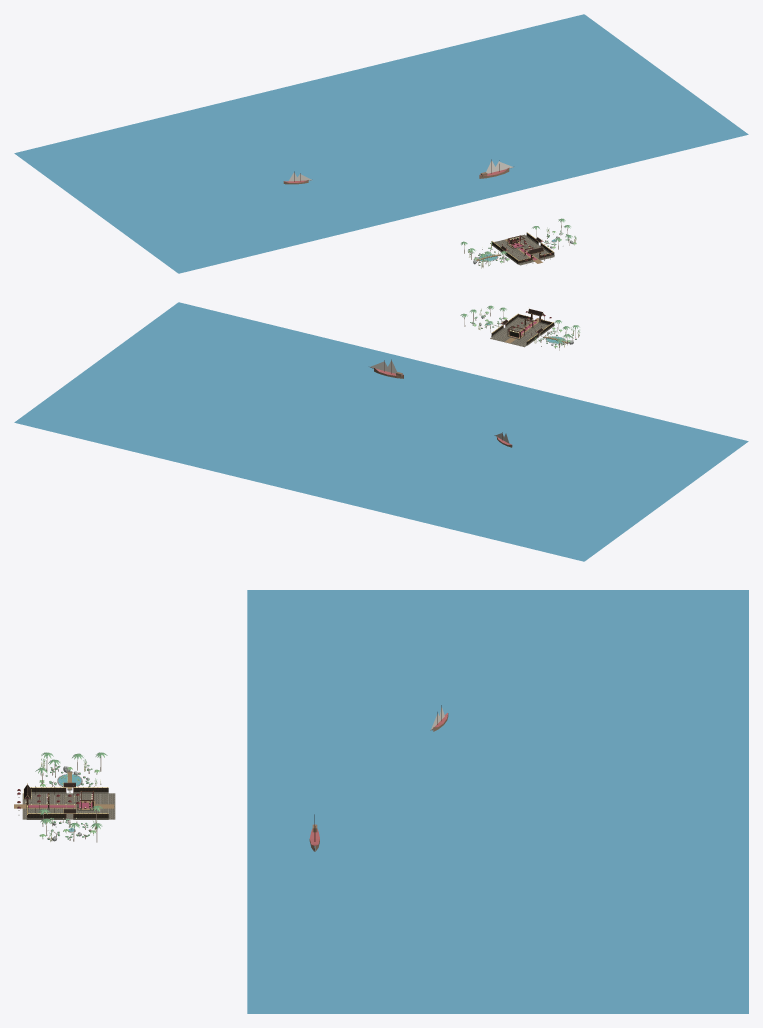
File: compound.glb
3 views of the same model, one above another, from view 1: azimuth 30°, elevation 25°; view 2: azimuth 150°, elevation 25°; view 3: azimuth 270°, elevation 25° (orthographic). The views are drawn at different scales.
Visible parts, largest first — view 1: distant_sea, courtyard, phinisi; view 2: distant_sea, courtyard, phinisi; view 3: distant_sea, courtyard, walls.
Part boxes in pixels (x1,y1,x2,y2): distant_sea: (14, 14, 748, 273); courtyard: (490, 234, 554, 265); phinisi: (283, 159, 513, 184); distant_sea: (14, 302, 748, 561); courtyard: (490, 318, 554, 347); phinisi: (369, 359, 512, 447); distant_sea: (247, 590, 748, 1013); courtyard: (14, 793, 115, 819); walls: (27, 782, 108, 819).
Bounding box in the file's own units: 520 × 18.18 × 381.
Materials: 38 (6 with a texture image).
